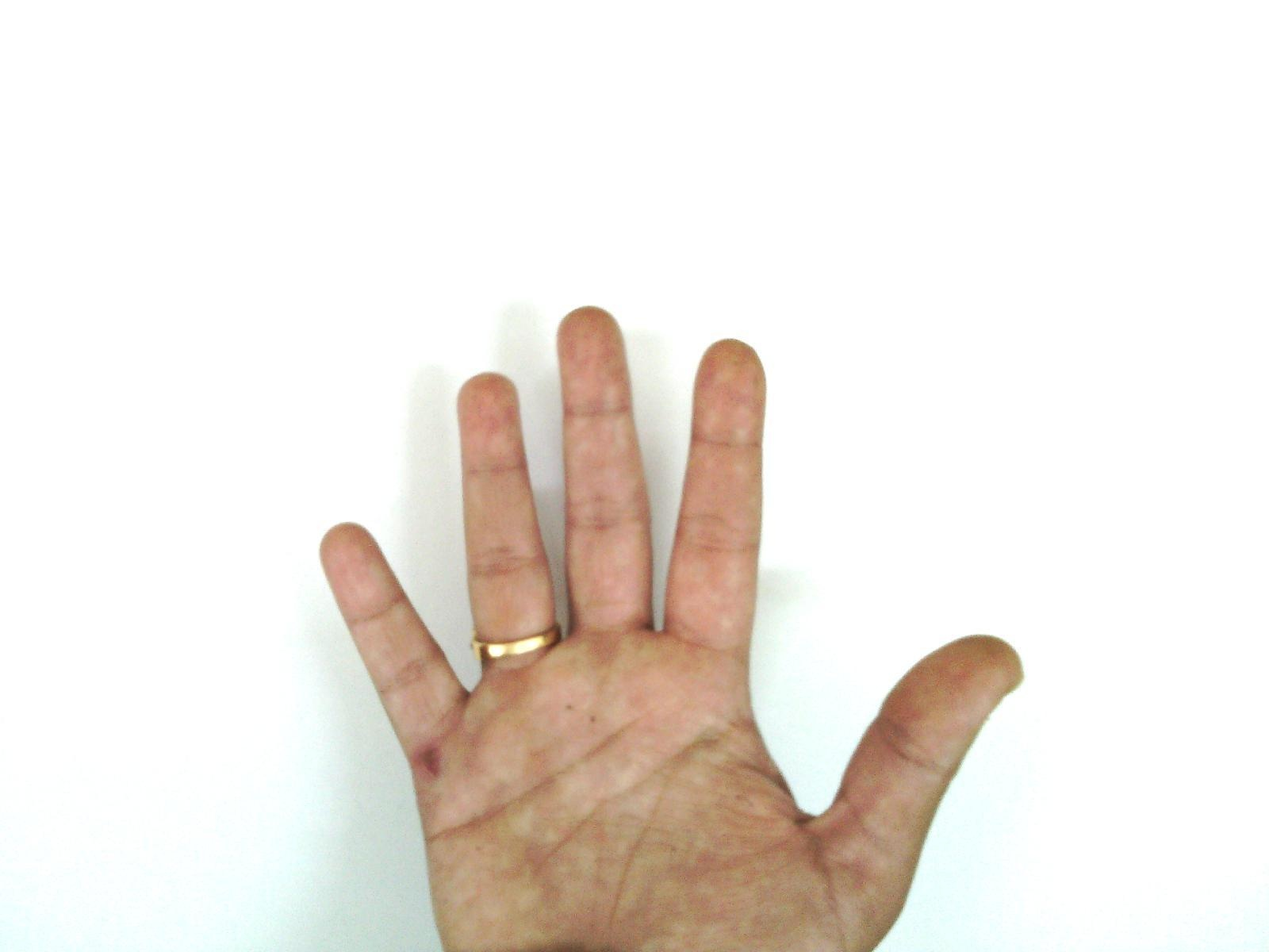open_palm: (316, 305, 1026, 951)
